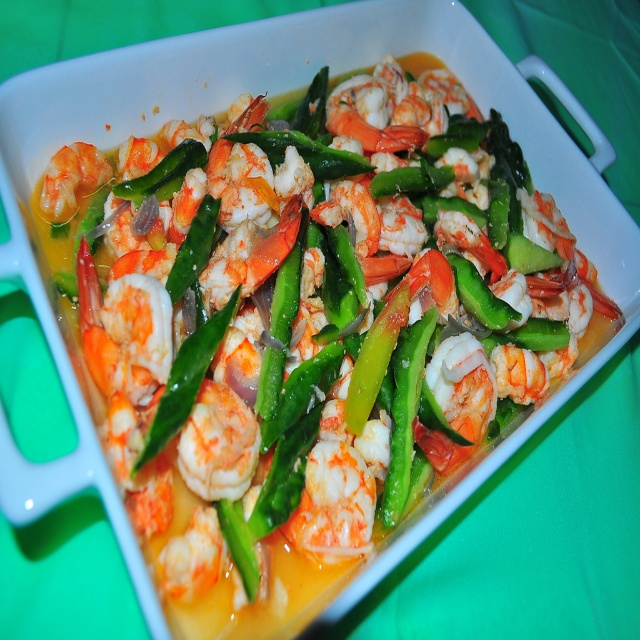Shrimp: (40, 53, 622, 609)
